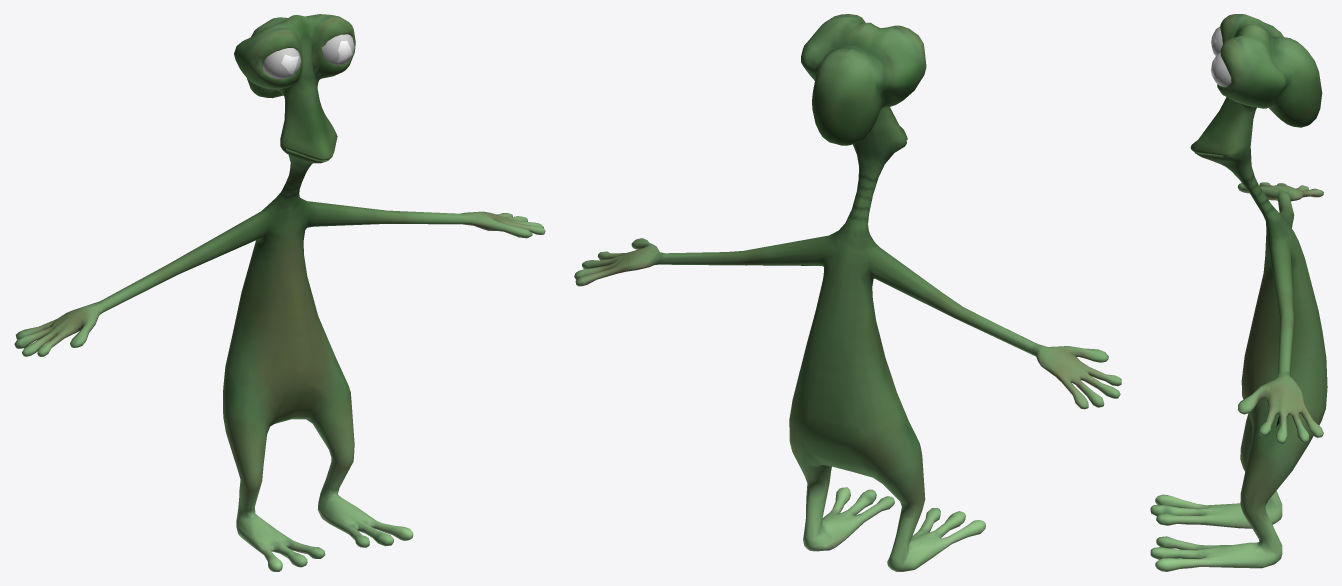
Rendered from frog-alien.fbx.
The picture shows the model from 3 angles, left to right: view 1: azimuth 30°, elevation 25°; view 2: azimuth 150°, elevation 25°; view 3: azimuth 270°, elevation 25°; orthographic projection. The views are drawn at different scales.
Visible parts, largest first — view 1: orginal_mesh, pSphere2, pSphere1; view 2: orginal_mesh; view 3: orginal_mesh, pSphere1, pSphere2.
Part boxes in pixels (<box>): orginal_mesh: <box>14,14,545,571</box>; pSphere2: <box>263,48,301,78</box>; pSphere1: <box>322,34,354,65</box>; orginal_mesh: <box>574,14,1121,571</box>; orginal_mesh: <box>1150,14,1327,571</box>; pSphere1: <box>1211,52,1231,86</box>; pSphere2: <box>1211,26,1222,55</box>.
Size of the model in its own units: 735 by 692 by 214.
